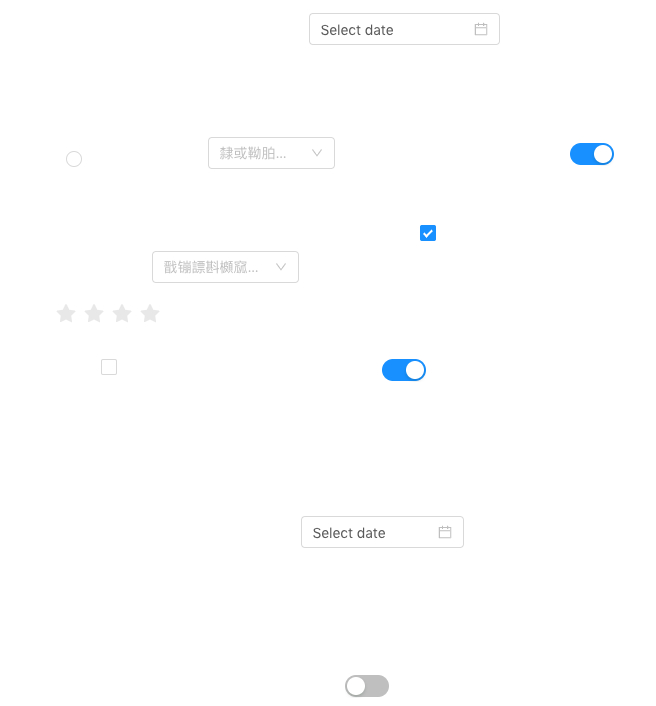Checkbox: (101, 356, 117, 377), (420, 222, 436, 243)
DatePicker: (309, 13, 500, 45), (301, 516, 464, 548)
Radio: (66, 148, 82, 168)
Rate: (56, 297, 176, 329)
Select: (152, 251, 299, 283), (208, 137, 335, 169)
Switch: (345, 674, 389, 698), (570, 142, 614, 166), (382, 358, 426, 382)
